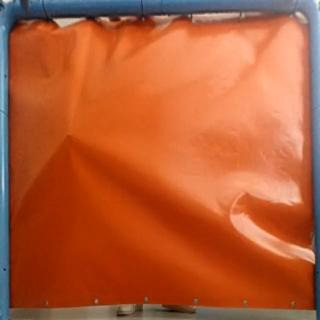Hit-hRxx: (62, 133, 78, 145)
